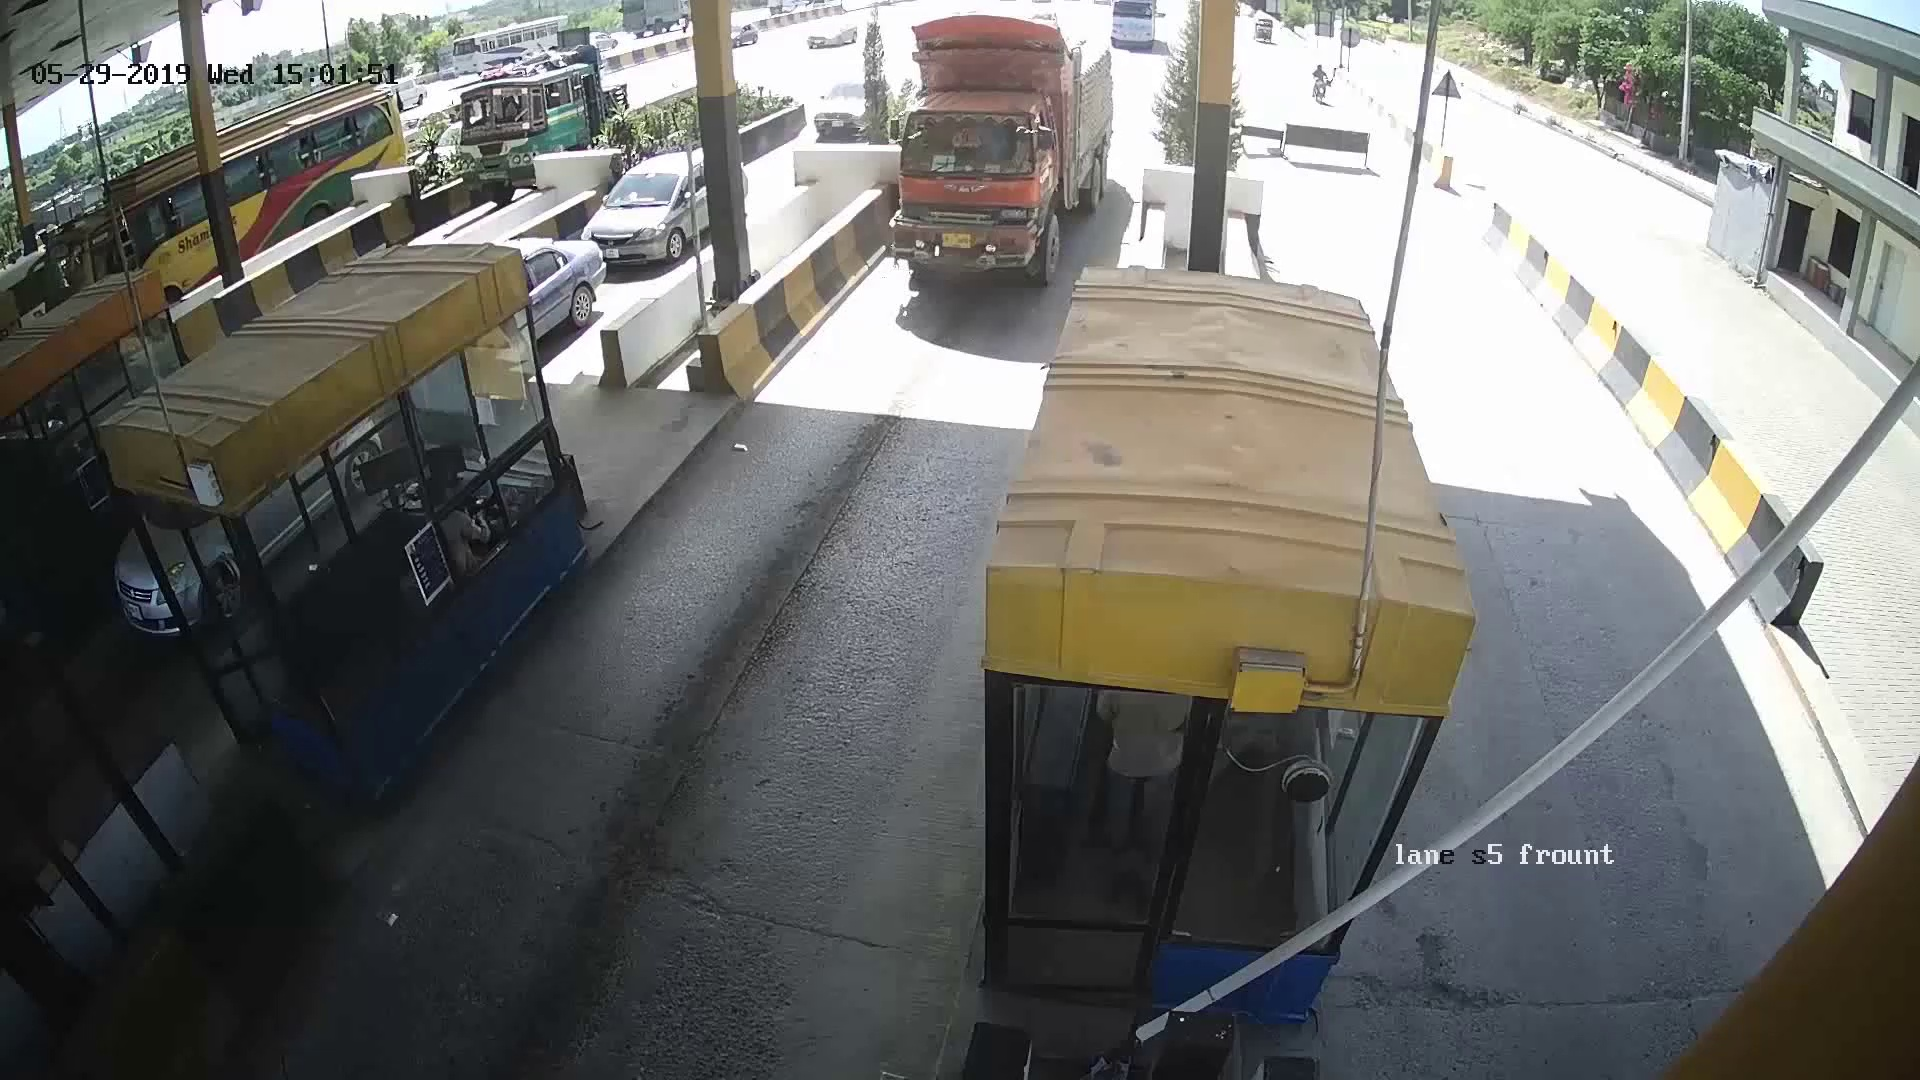truck: (887, 32, 1102, 266)
